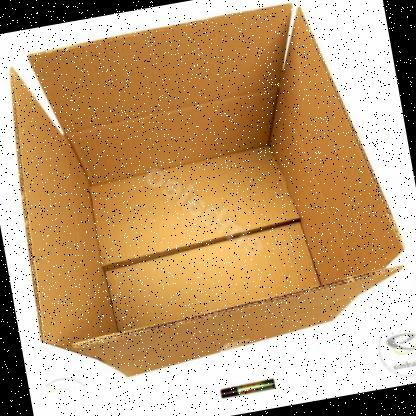box: (9, 2, 404, 377)
opened: (10, 2, 403, 347)
